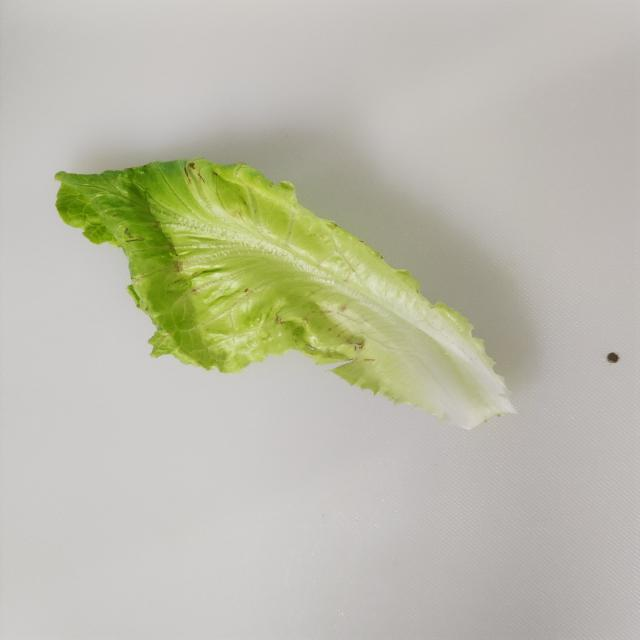lettuce: (53, 156, 518, 431)
